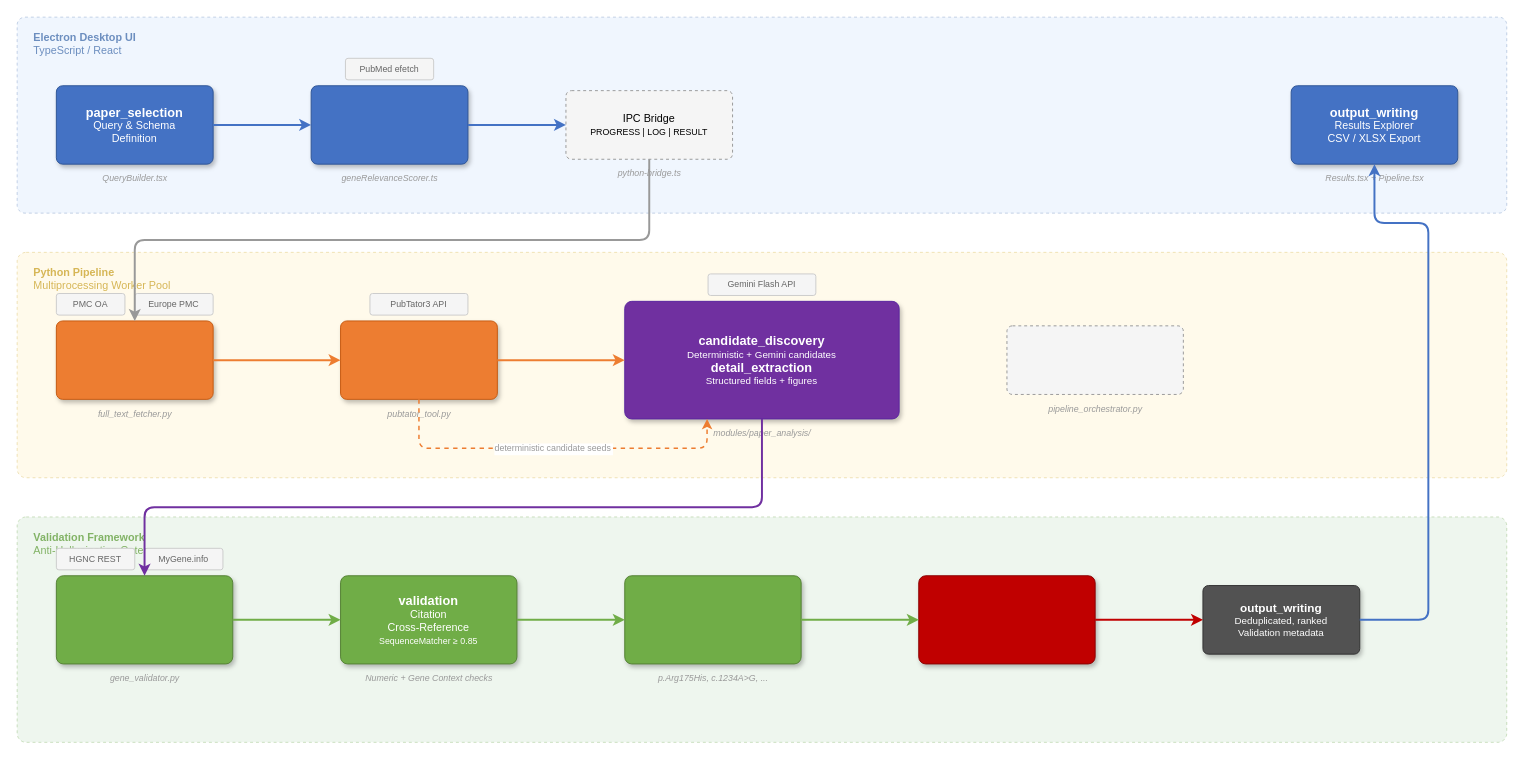
This 1524x760 diagram has some shape labels left out. Here are the shapes that lost their labels. From the top down, the centre of each, then its label:
[390,126]: paper_selection Gene Relevance Scoring
[135,361]: oa_filter paper_reading Full-Text
[419,361]: candidate_discovery PubTator3 NER precision floor
[1094,359]: Orchestrator Worker Pool (2–4) 600s per-paper timeout
[145,621]: validation Gene Validation HGNC (44,943 genes) Biotype Metadata
[713,621]: validation Variant Matching 12+ HGVS patterns
[1007,621]: Strict Gate Confidence ≥ 0.7 C = C g + C v
